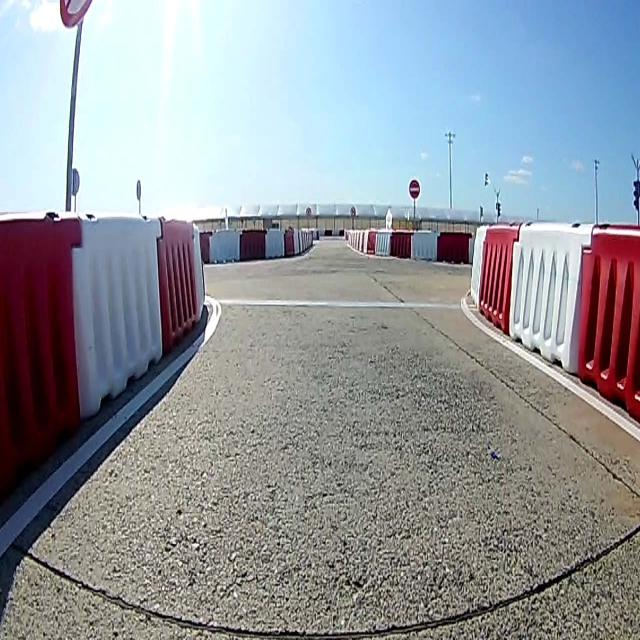girisyok: (410, 179, 420, 199)
